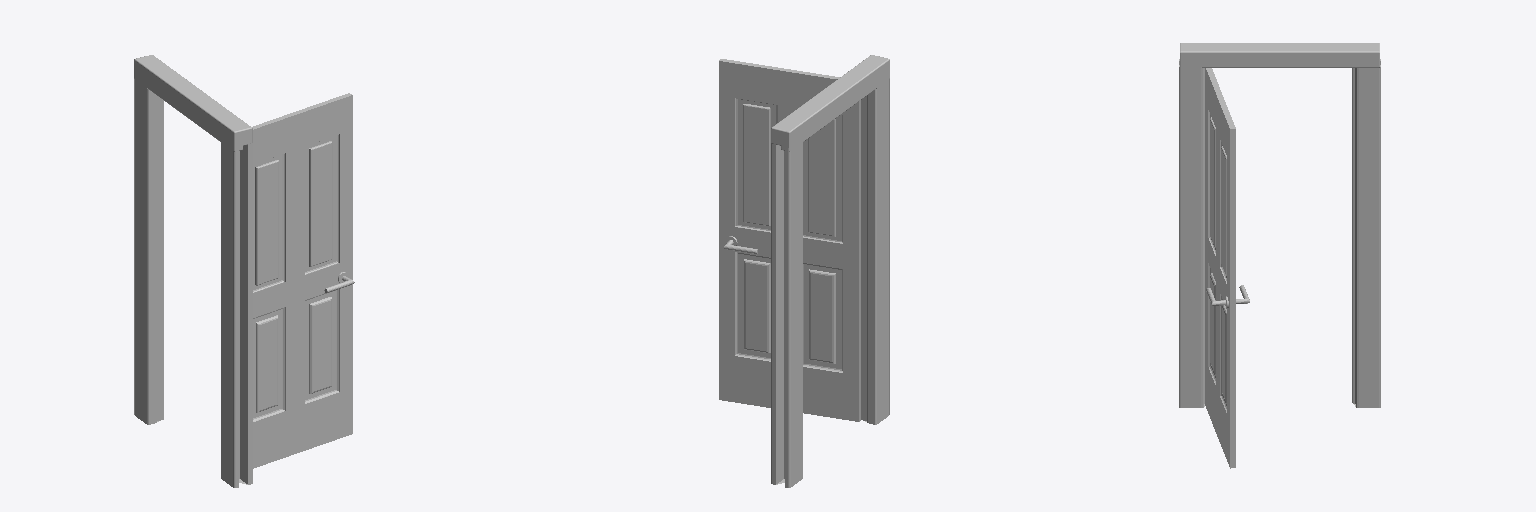
3 renders of one model, left to right at view 1: azimuth 30°, elevation 25°; view 2: azimuth 150°, elevation 25°; view 3: azimuth 270°, elevation 25°, orthographic.
Parts seen in each view (by area): view 1: Door_Cube, frame.001_Plane.002, frame_Plane.001, Plane_Plane.003; view 2: Door_Cube, frame_Plane.001, frame.001_Plane.002, Plane_Plane.003; view 3: Door_Cube, frame_Plane.001, frame.001_Plane.002, Plane_Plane.003.
Part boxes in pixels (left/top/right/bottom): Door_Cube: left=252, top=93, right=352, bottom=468; frame.001_Plane.002: left=221, top=138, right=252, bottom=487; frame_Plane.001: left=134, top=76, right=163, bottom=424; Plane_Plane.003: left=134, top=55, right=252, bottom=151; Door_Cube: left=719, top=59, right=860, bottom=421; frame_Plane.001: left=771, top=139, right=802, bottom=487; frame.001_Plane.002: left=861, top=75, right=889, bottom=424; Plane_Plane.003: left=771, top=55, right=889, bottom=151; Door_Cube: left=1205, top=68, right=1235, bottom=468; frame_Plane.001: left=1352, top=59, right=1380, bottom=407; frame.001_Plane.002: left=1179, top=59, right=1204, bottom=407; Plane_Plane.003: left=1180, top=43, right=1379, bottom=67.
Bounding box in the file's own units: 1.81 × 4.29 × 2.19.